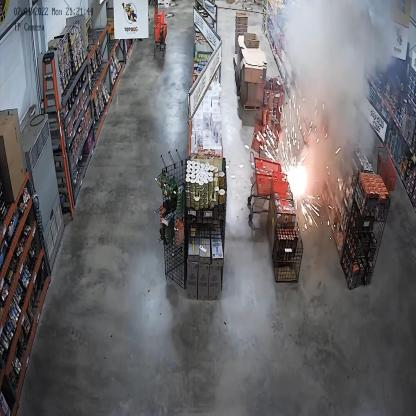fire: (256, 95, 341, 241)
